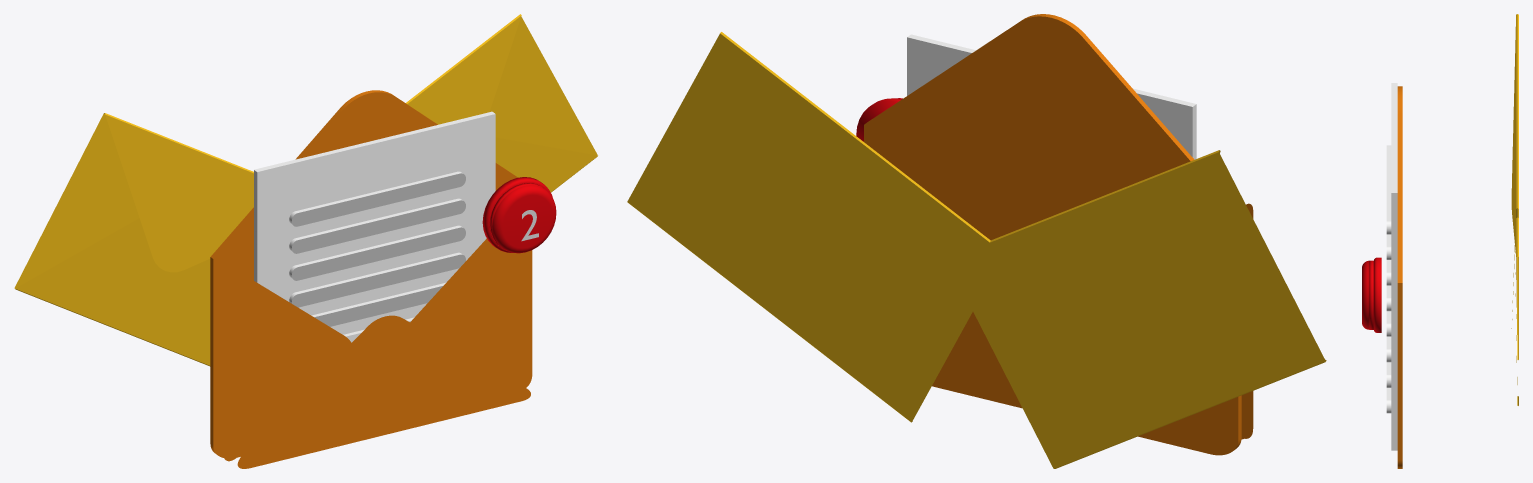
The model's file is message.glb.
3 views of the same model, side by side, from view 1: azimuth 30°, elevation 25°; view 2: azimuth 150°, elevation 25°; view 3: azimuth 270°, elevation 25° (orthographic). The views are drawn at different scales.
Visible parts, largest first — view 1: Cube, Plane.012, Plane.007, Plane.001, Plane.006, Plane.005, Plane.004, Cylinder; view 2: Plane.012, Plane.001, Plane.004, Cube; view 3: Cube, Plane.004, Plane.012, Cylinder.
Boxes of the visible parts, left/top/right/bottom form: Cube: left=254, top=111, right=495, bottom=342; Plane.012: left=14, top=113, right=253, bottom=366; Plane.007: left=237, top=315, right=530, bottom=468; Plane.001: left=406, top=14, right=597, bottom=192; Plane.006: left=223, top=265, right=351, bottom=461; Plane.005: left=410, top=238, right=532, bottom=387; Plane.004: left=210, top=90, right=517, bottom=457; Cylinder: left=482, top=177, right=556, bottom=253; Plane.012: left=947, top=150, right=1326, bottom=468; Plane.001: left=627, top=32, right=990, bottom=422; Plane.004: left=864, top=14, right=1241, bottom=455; Cube: left=907, top=34, right=1196, bottom=159; Cube: left=1386, top=83, right=1397, bottom=450; Plane.004: left=1397, top=86, right=1402, bottom=468; Plane.012: left=1511, top=14, right=1518, bottom=359; Cylinder: left=1362, top=257, right=1381, bottom=332.
Size of the model in its own units: 3.73 by 2.03 by 0.9605.
